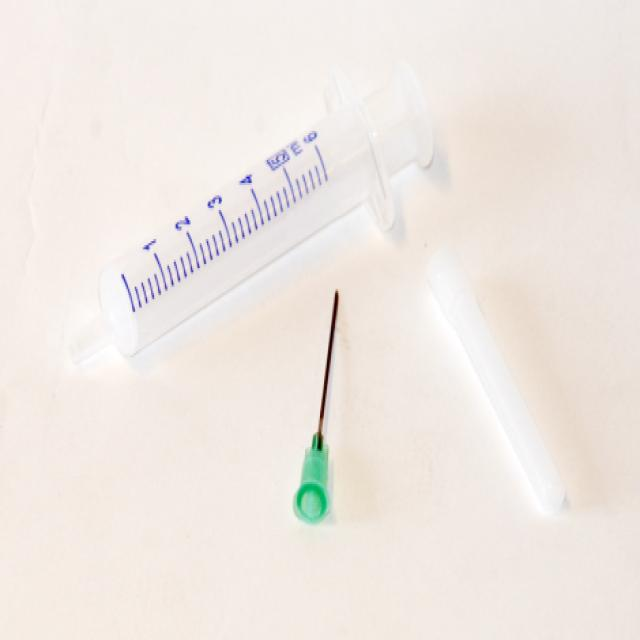syringe: (4, 6, 640, 640), (68, 56, 434, 370)
